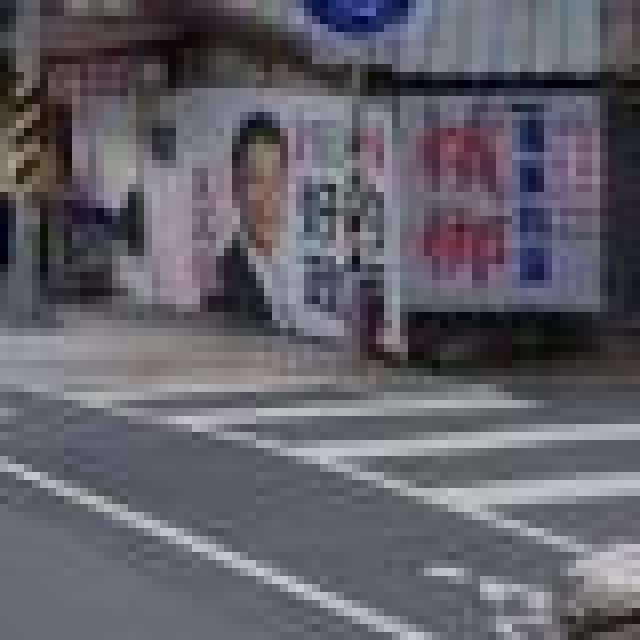crosswalk: (105, 369, 640, 557)
